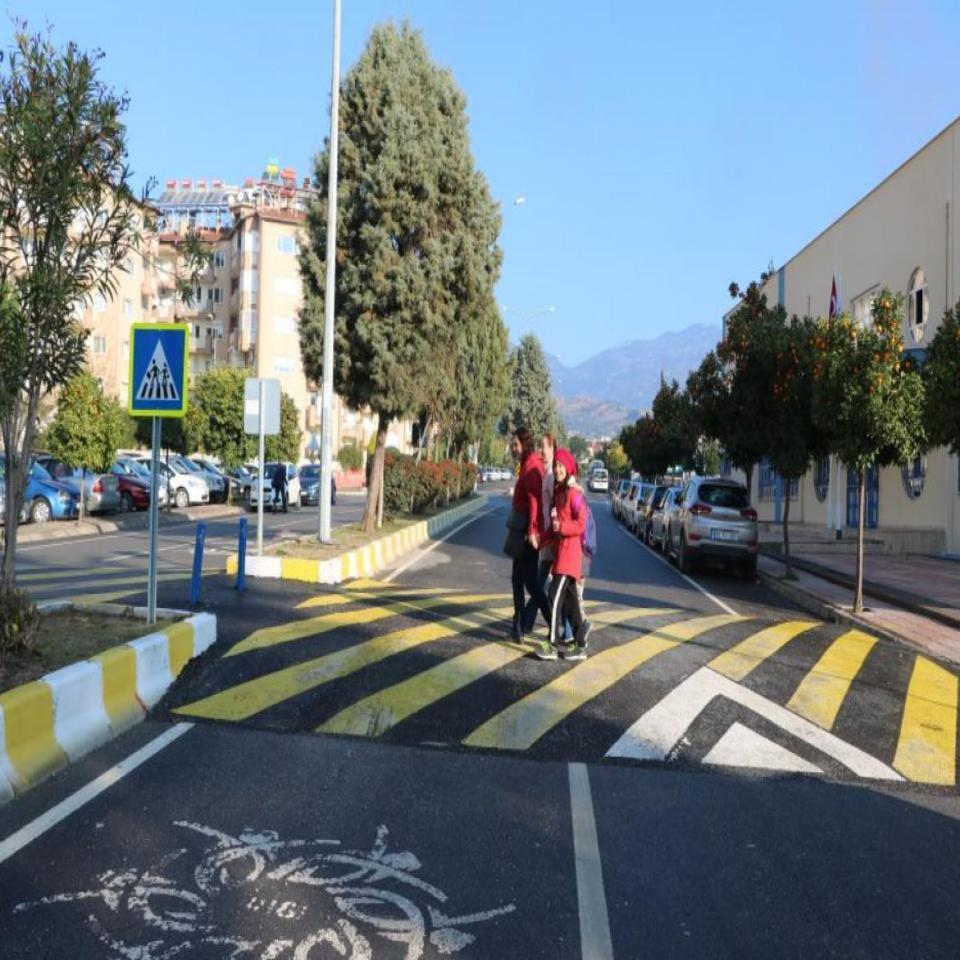speedbreaker: (596, 608, 959, 787), (286, 579, 490, 739)
